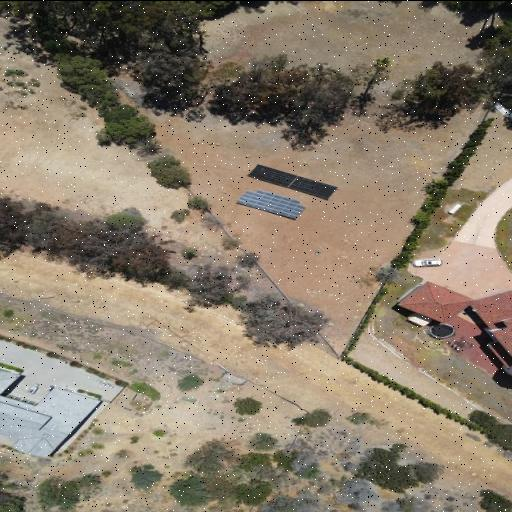solar-panel: (237, 188, 306, 218)
